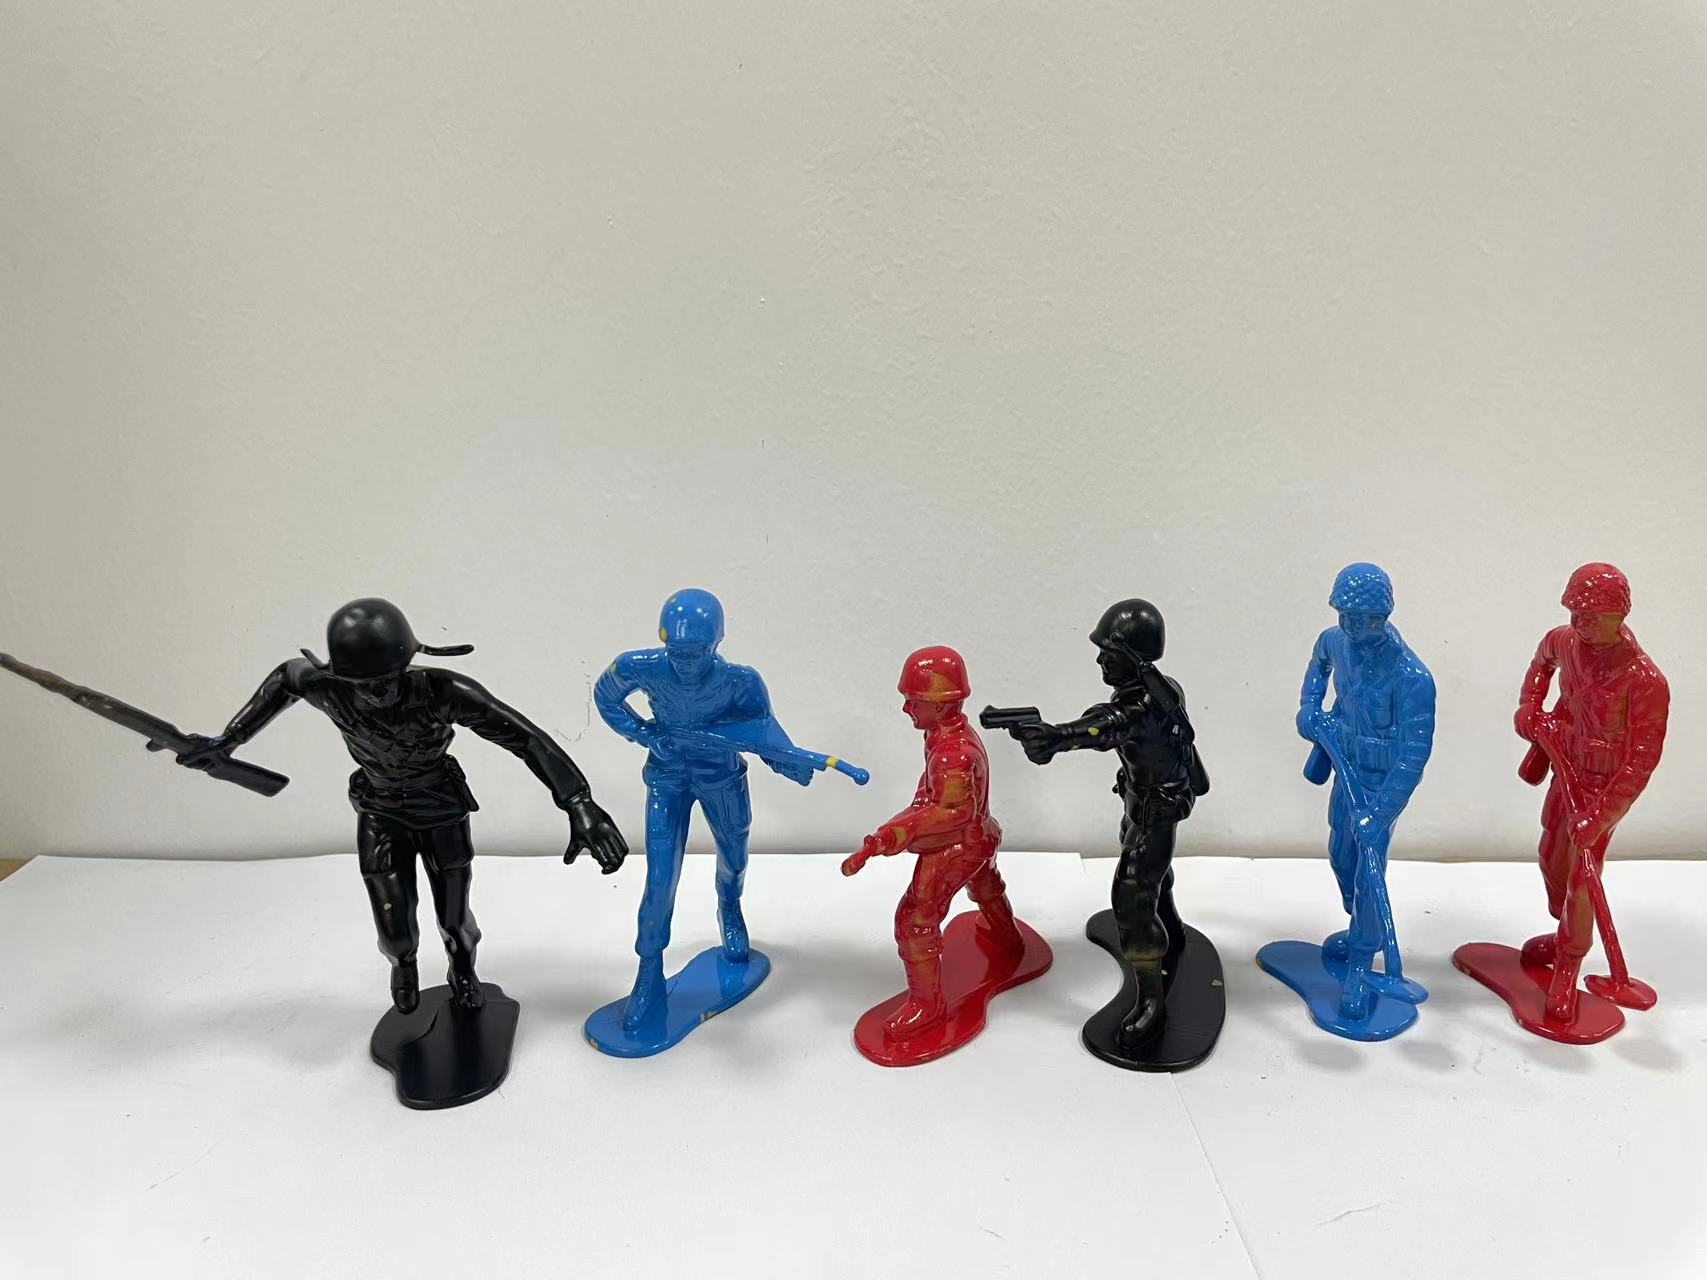black: (4, 579, 589, 1172), (1001, 536, 1255, 1112)
blue: (577, 573, 832, 1062), (1265, 542, 1445, 1055)
red: (1458, 549, 1698, 1086), (835, 618, 1044, 1086)
